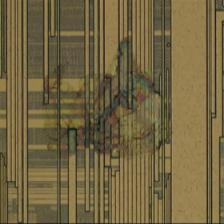COATING BAD: (41, 32, 176, 163)
